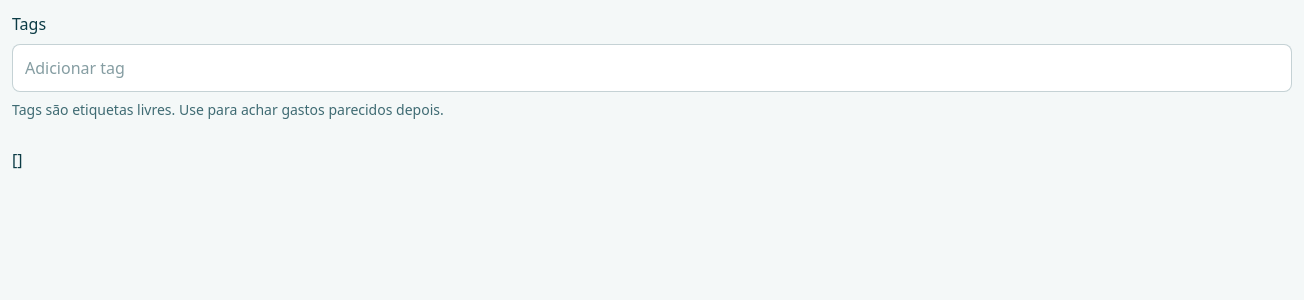
Test: TagInput › adds the typed name on Enter, and the suggestion with its own casing
Type "  casa  " into the dropdown labelled "Tags". click: {"x": 652, "y": 68}
box: [12, 44, 1292, 92]
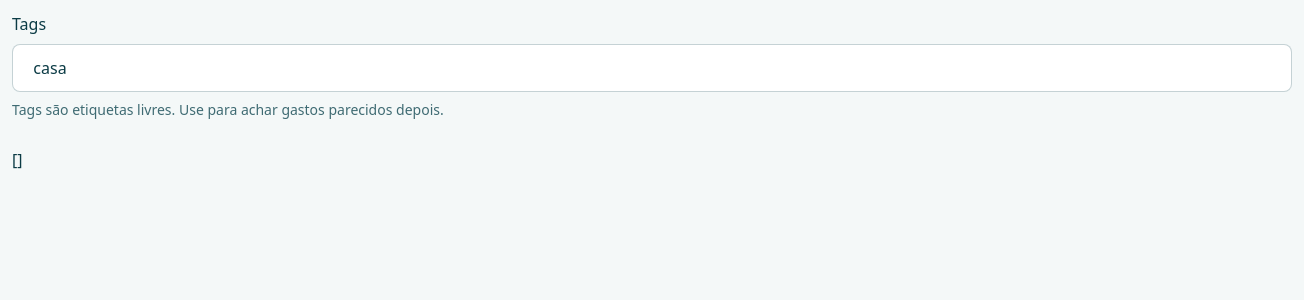
Press Enter in the dropdown labelled "Tags", box [12, 44, 1292, 92]
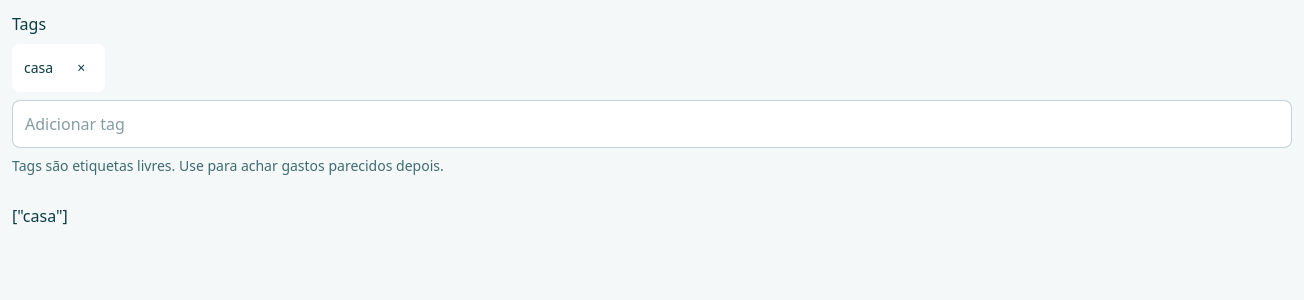
Type "ESC" into the dropdown labelled "Tags". click: {"x": 652, "y": 124}
box: [12, 100, 1292, 148]
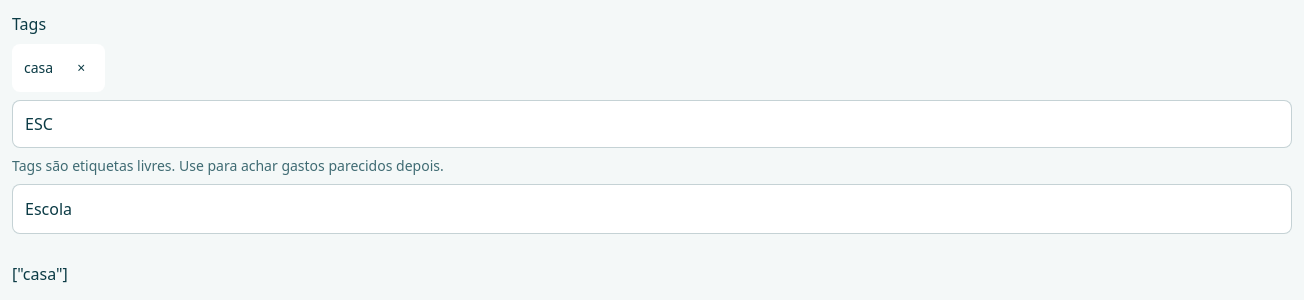
Click the option "Escola". click: {"x": 48, "y": 209}
box: [25, 198, 72, 220]
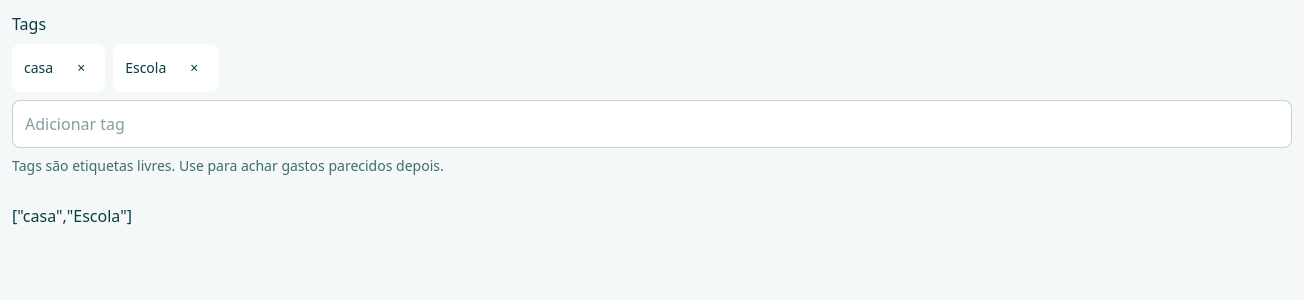
Expected: the dropdown labelled "Tags" is empty, [12, 100, 1292, 148]
